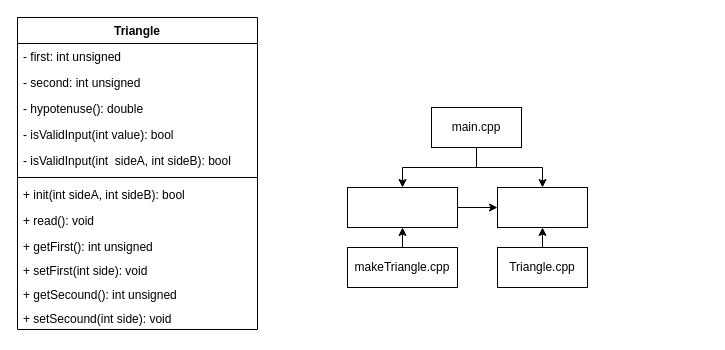
Image size: 725x350. Some labels were removed from this diagram. The shapes that lost their labels are listed below. From the top down, each one's centre as x and y in pixels, then its label:
At point (402, 207): "makeTriangle.hpp".
At point (542, 207): "Triangle.hpp".
